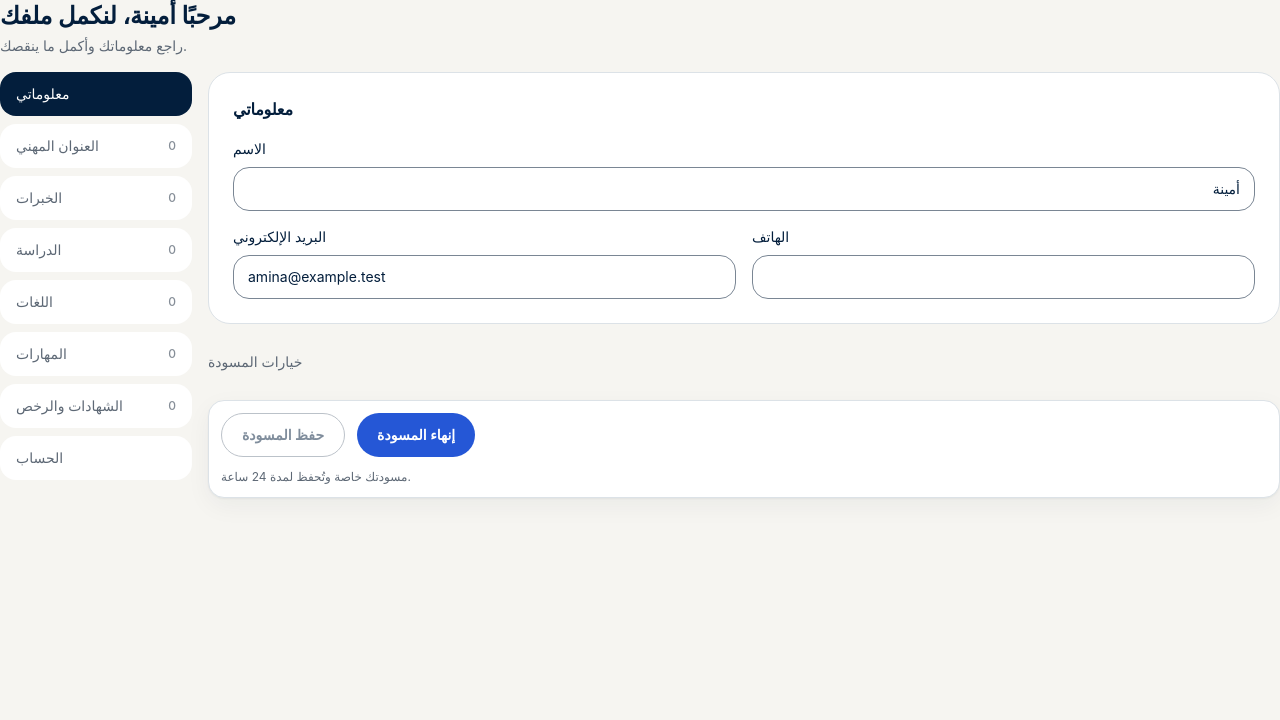
Test: guest professional draft › offers password recovery without leaving or discarding the draft
This screenshot has width=1280, height=720.
Expected: the field labelled "الاسم" is shown, [233,167,1255,211]
Click the button "الحساب" at coordinates (96, 458), box [0,436,192,480]
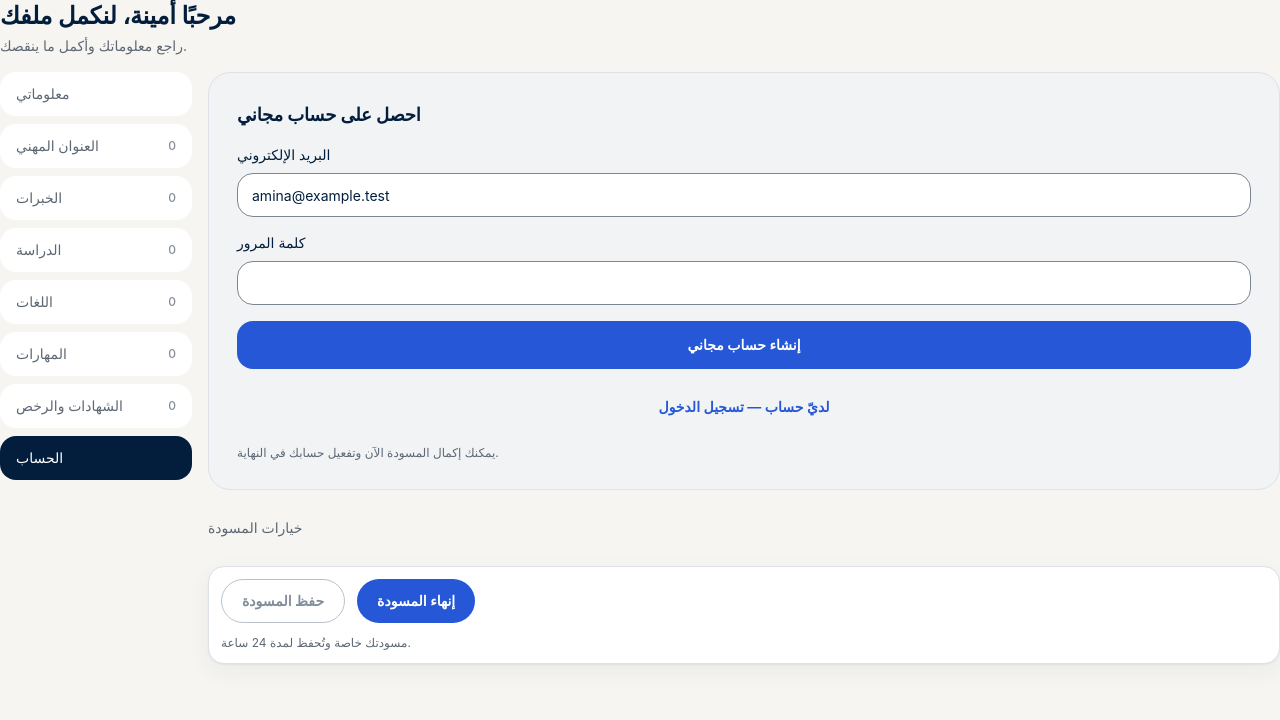
Click the button "لديّ حساب — تسجيل الدخول" at coordinates (744, 407), box [237,385,1251,429]
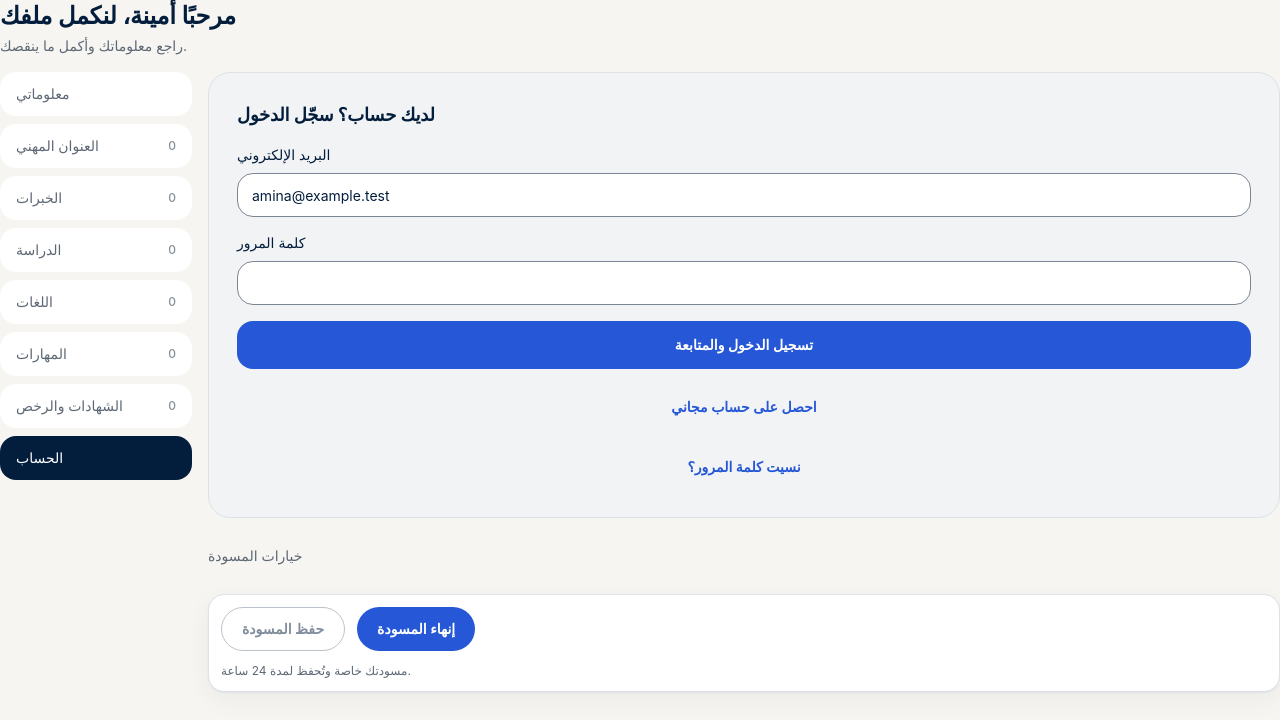
Click the button "نسيت كلمة المرور؟" at coordinates (744, 467), box [237,445,1251,489]
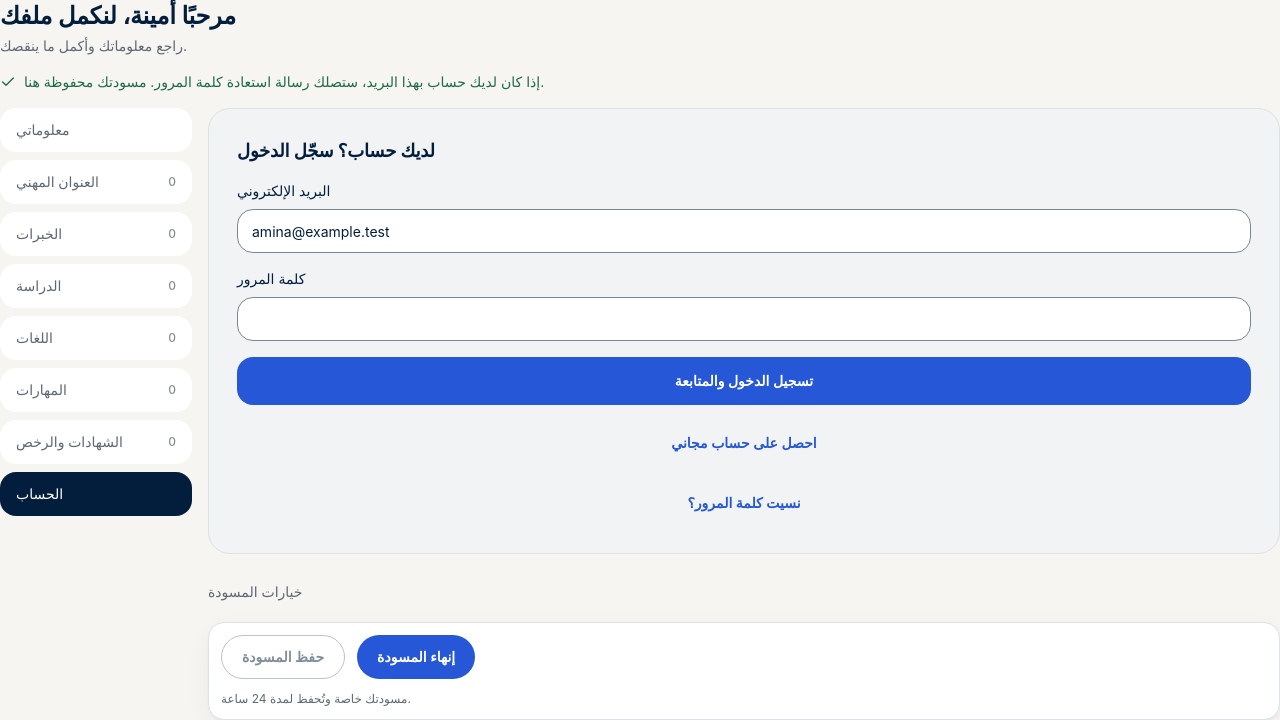
Click the button "معلوماتي" at coordinates (96, 130), box [0,108,192,152]
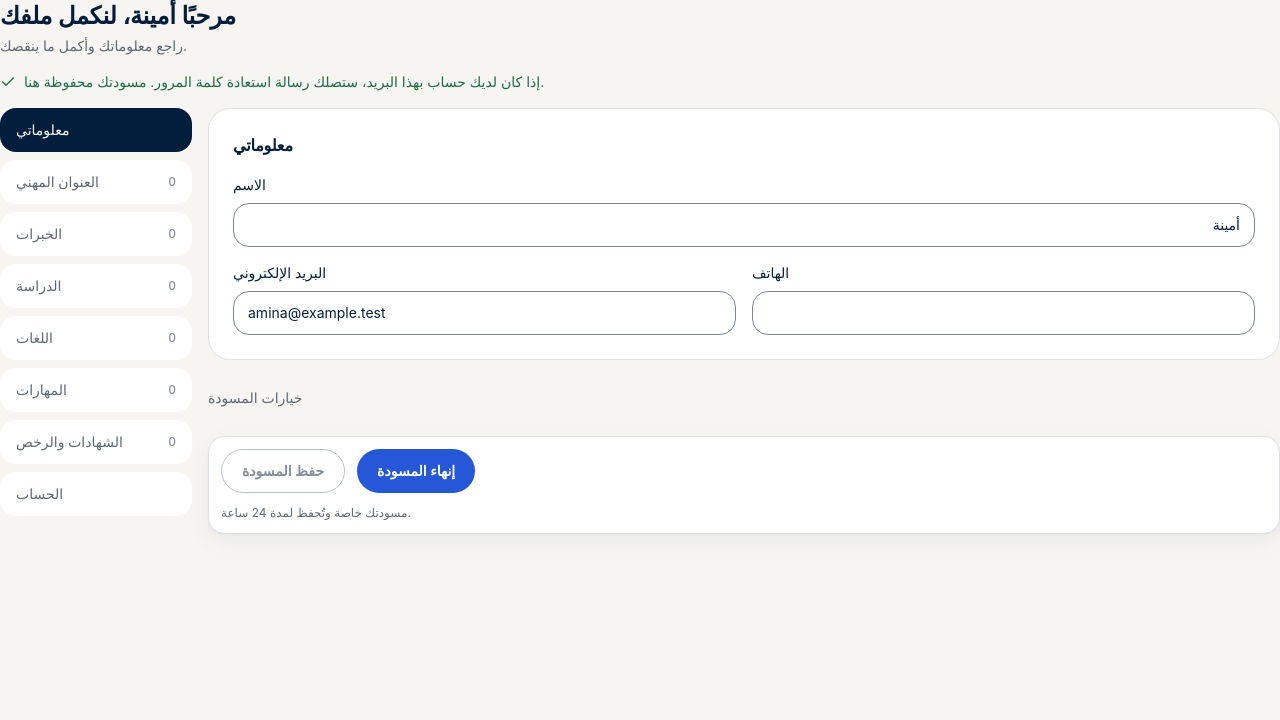
Expected: the field labelled "الاسم" holds "أمينة", [233,203,1255,247]
